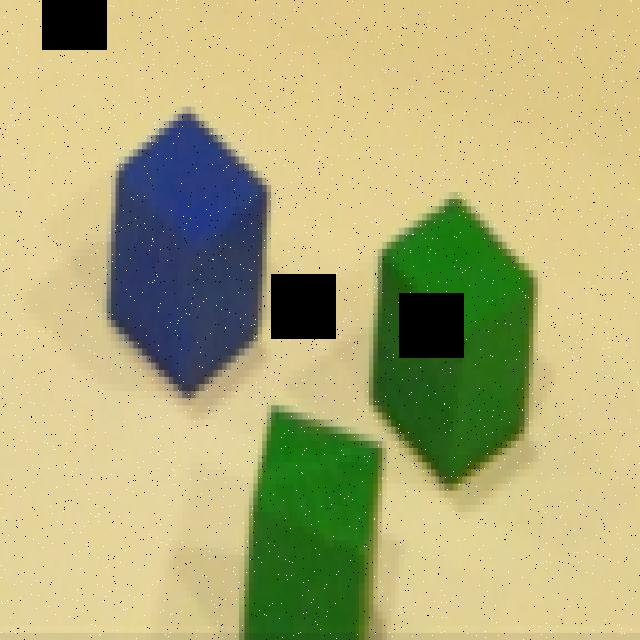bluecube: (107, 107, 271, 405)
green cube: (369, 195, 537, 490), (240, 405, 387, 640)
